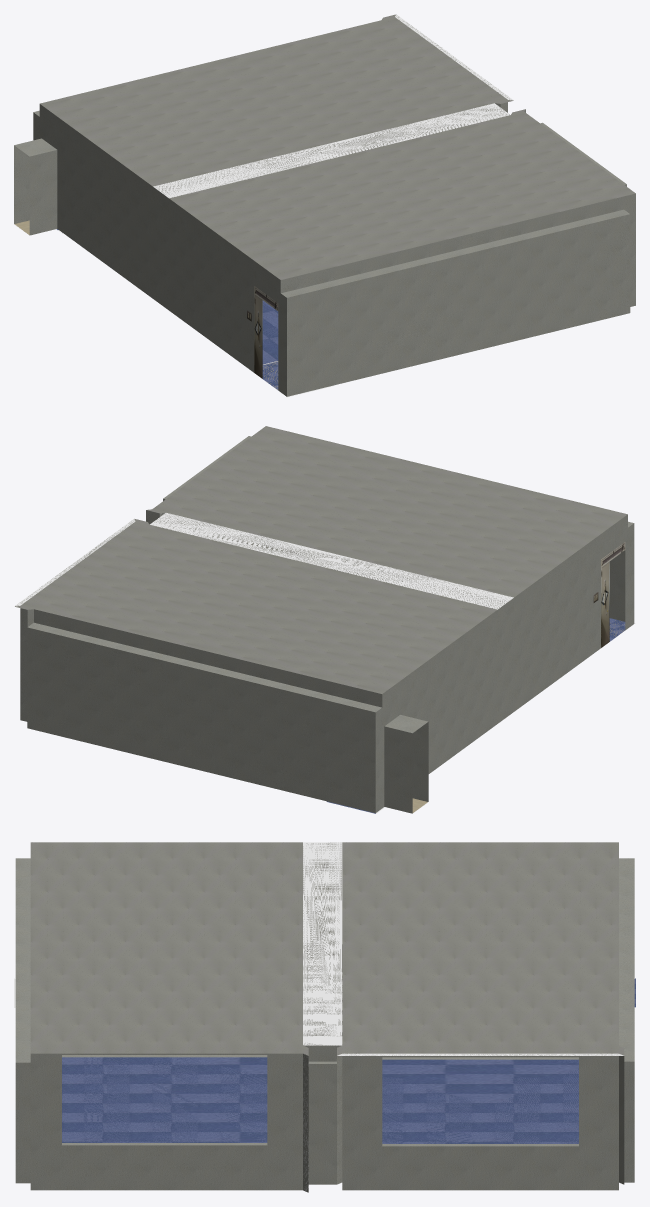
Rendered from room.dae.
3 renders of one model, top to bottom at view 1: azimuth 30°, elevation 25°; view 2: azimuth 150°, elevation 25°; view 3: azimuth 270°, elevation 25°, orthographic. The views are drawn at different scales.
Visible parts, largest first — view 1: SketchUp (×6); view 2: SketchUp (×5); view 3: SketchUp (×11).
Part boxes in pixels (x1,y1,x2,y2): SketchUp (×6): (14,14,635,396); SketchUp (×5): (15,426,634,813); SketchUp (×11): (15,842,634,1192).
Size of the model in its own units: 389 by 445 by 109.
9 materials, 7 textured.
